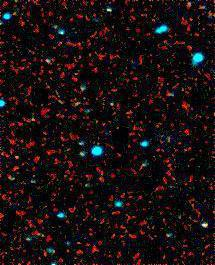star: (1, 142, 31, 172)
